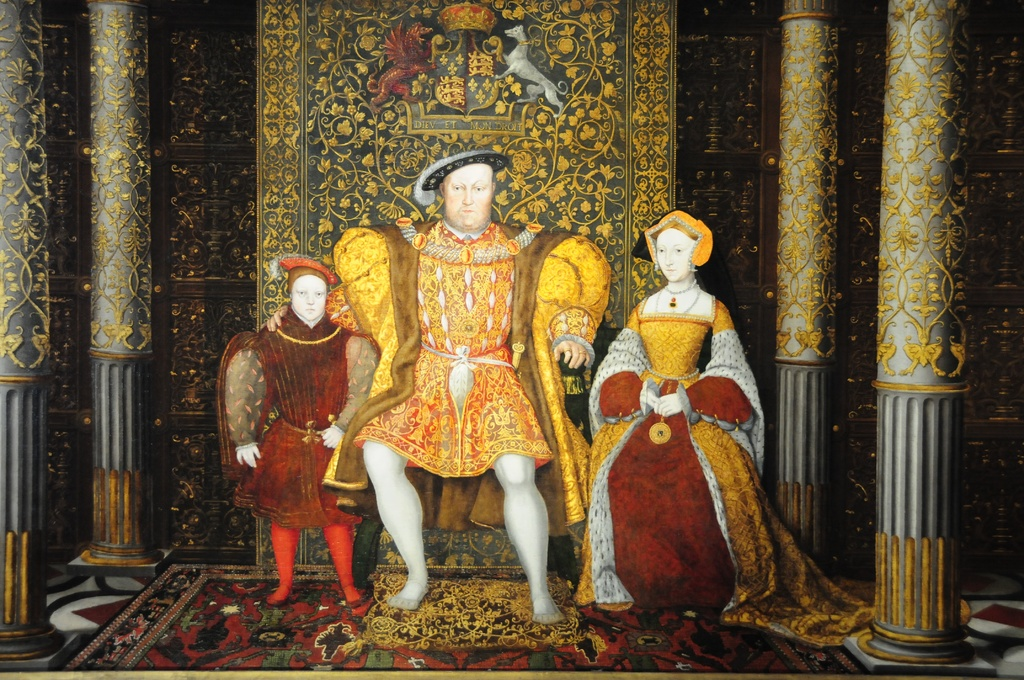Person: (266, 149, 611, 624), (570, 209, 876, 652), (214, 258, 379, 611)
